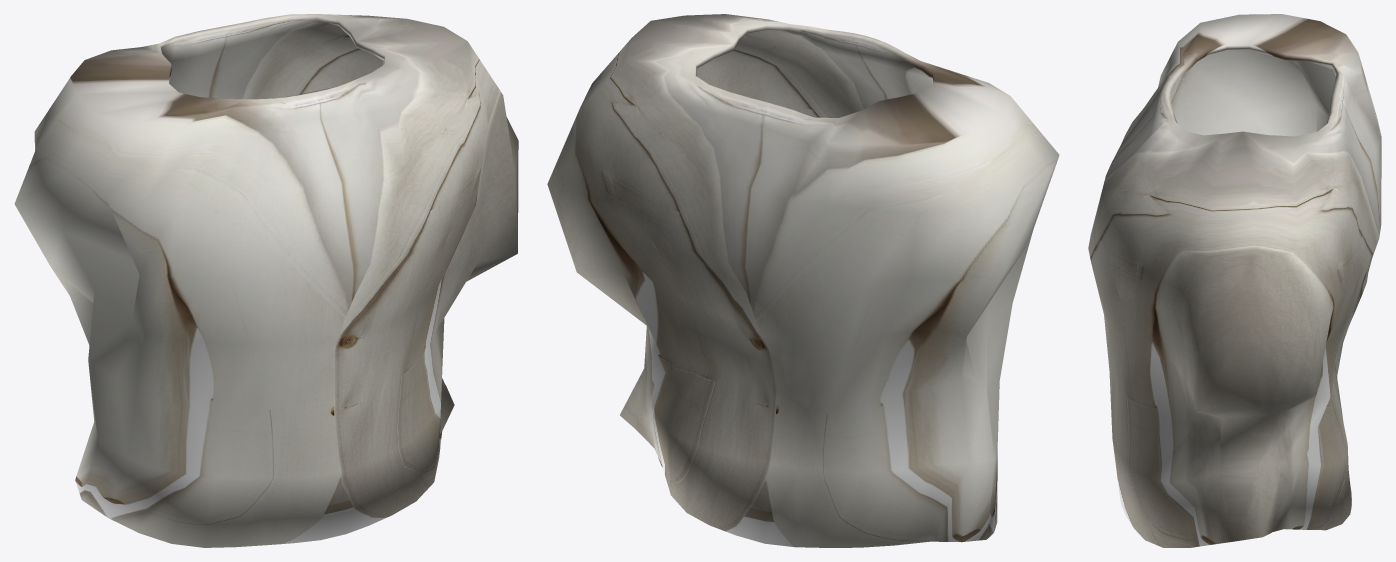
3 views of the same model, side by side, from view 1: azimuth 30°, elevation 25°; view 2: azimuth 150°, elevation 25°; view 3: azimuth 270°, elevation 25° (orthographic). The views are drawn at different scales.
Parts seen in each view (by area): view 1: garment; view 2: garment; view 3: garment.
Boxes of the visible parts, <box> form: garment: <box>14,14,518,547</box>; garment: <box>547,14,1059,547</box>; garment: <box>1088,14,1381,547</box>.
Bounding box in the file's own units: 0.5678 × 0.5012 × 0.3257.
1 material, 1 textured.
